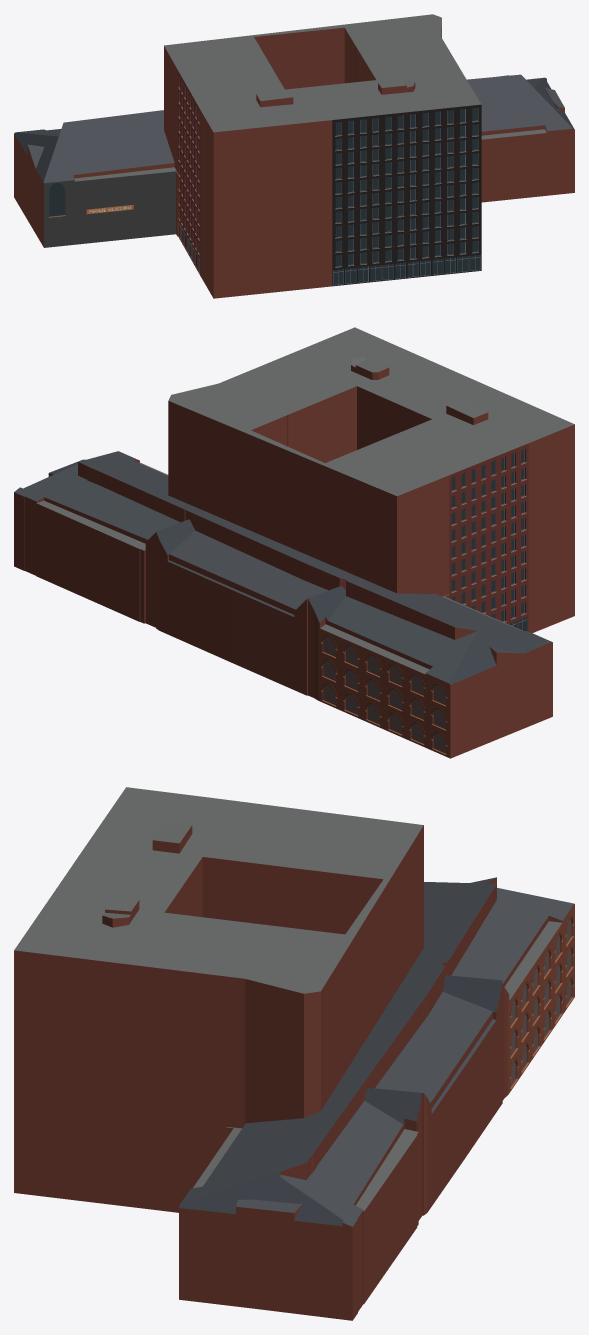
File: recipe-large-waagdragerhof-198-118320.glb
The picture shows the model from 3 angles, top to bottom: view 1: azimuth 30°, elevation 25°; view 2: azimuth 150°, elevation 25°; view 3: azimuth 270°, elevation 25°; orthographic projection. The views are drawn at different scales.
Parts seen in each view (by area): view 1: waagdragerhof-198-118320; view 2: waagdragerhof-198-118320; view 3: waagdragerhof-198-118320.
Boxes of the visible parts, box(x1,y1,x2,y2) form: waagdragerhof-198-118320: box(14, 14, 574, 298); waagdragerhof-198-118320: box(14, 327, 574, 758); waagdragerhof-198-118320: box(14, 787, 574, 1320).
Size of the model in its own units: 102 by 34.94 by 70.34.
